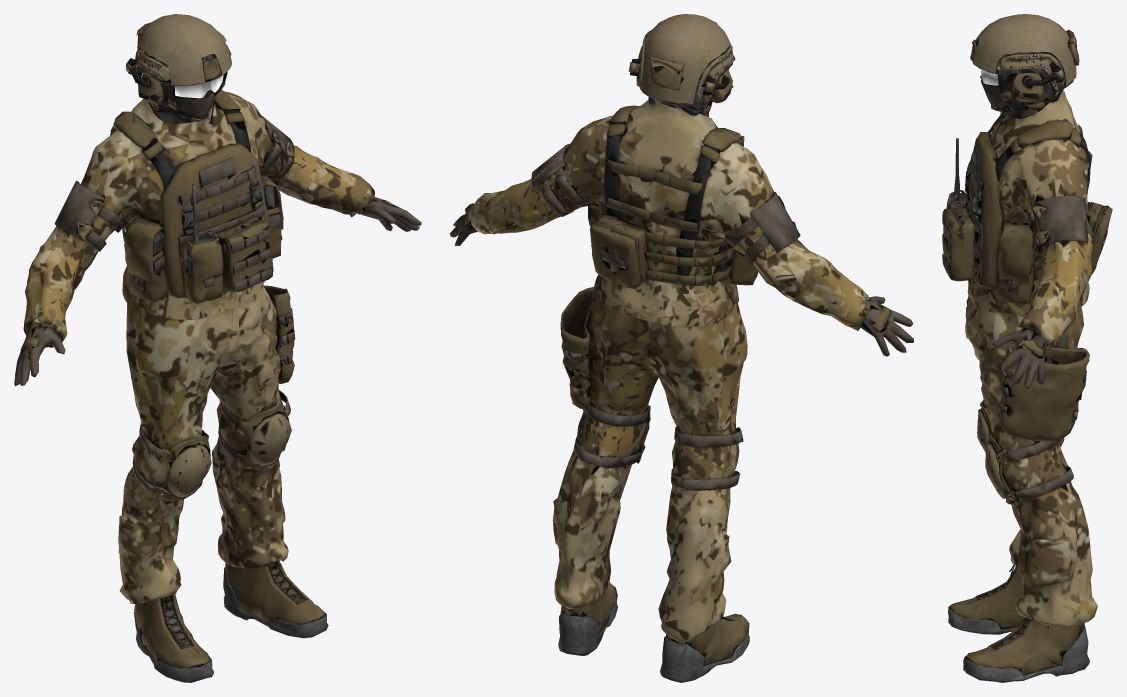
Rendered from masculin.glb.
The picture shows the model from 3 angles, left to right: view 1: azimuth 30°, elevation 25°; view 2: azimuth 150°, elevation 25°; view 3: azimuth 270°, elevation 25°; orthographic projection. The views are drawn at different scales.
Parts seen in each view (by area): view 1: sand_soldier_outdated; view 2: sand_soldier_outdated; view 3: sand_soldier_outdated.
Boxes of the visible parts, left/top/right/bottom form: sand_soldier_outdated: left=14, top=14, right=421, bottom=682; sand_soldier_outdated: left=450, top=14, right=913, bottom=682; sand_soldier_outdated: left=942, top=14, right=1112, bottom=682.
Size of the model in its own units: 1.36 by 1.94 by 0.4839.
2 materials, 1 textured.
